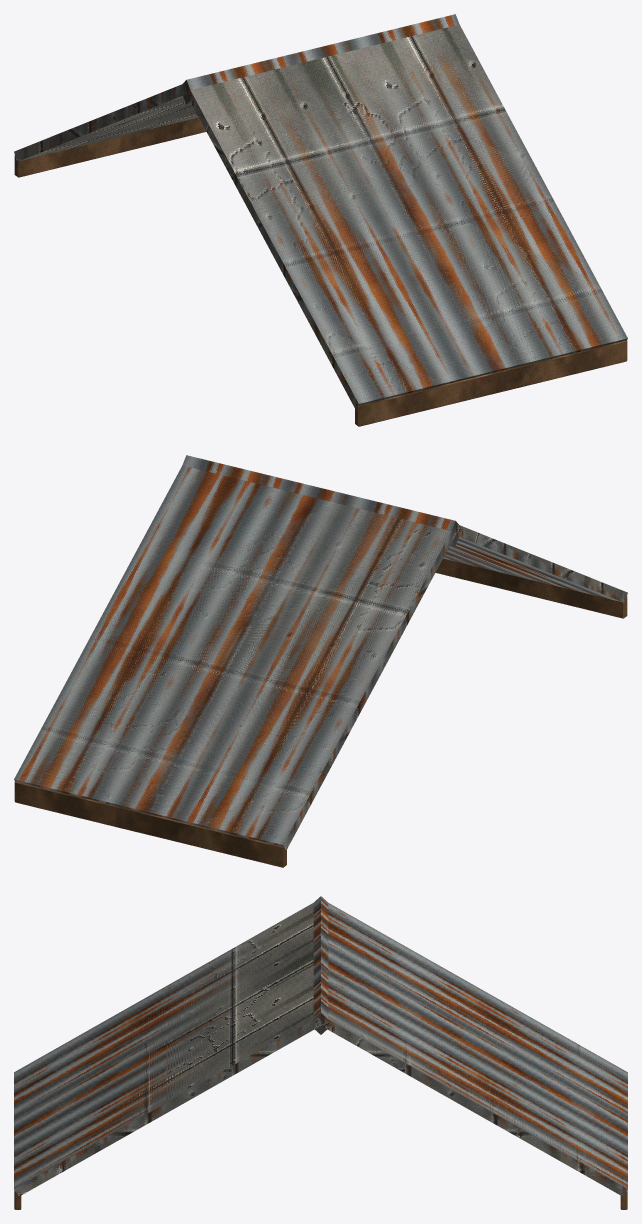
File: roof_tin_8.glb
3 renders of one model, top to bottom at view 1: azimuth 30°, elevation 25°; view 2: azimuth 150°, elevation 25°; view 3: azimuth 270°, elevation 25°, orthographic. The views are drawn at different scales.
Visible parts, largest first — view 1: roof_gable_8_mesh.001, roof_gable_8_col-colonly.002, roof_gable_8_col-colonly.003; view 2: roof_gable_8_mesh.001, roof_gable_8_col-colonly.003, roof_gable_8_col-colonly.002; view 3: roof_gable_8_mesh.001, roof_gable_8_col-colonly.002, roof_gable_8_col-colonly.003.
Boxes of the visible parts, x1=… form: roof_gable_8_mesh.001: x1=14, y1=14, x2=627, y2=426; roof_gable_8_col-colonly.002: x1=187, y1=24, x2=627, y2=409; roof_gable_8_col-colonly.003: x1=14, y1=85, x2=198, y2=161; roof_gable_8_mesh.001: x1=14, y1=455, x2=627, y2=867; roof_gable_8_col-colonly.003: x1=16, y1=491, x2=456, y2=850; roof_gable_8_col-colonly.002: x1=443, y1=524, x2=627, y2=601; roof_gable_8_mesh.001: x1=14, y1=896, x2=627, y2=1209; roof_gable_8_col-colonly.002: x1=15, y1=903, x2=323, y2=1196; roof_gable_8_col-colonly.003: x1=319, y1=1003, x2=627, y2=1196.
Size of the model in its own units: 4 by 3.15 by 8.87.
3 materials, 3 textured.
